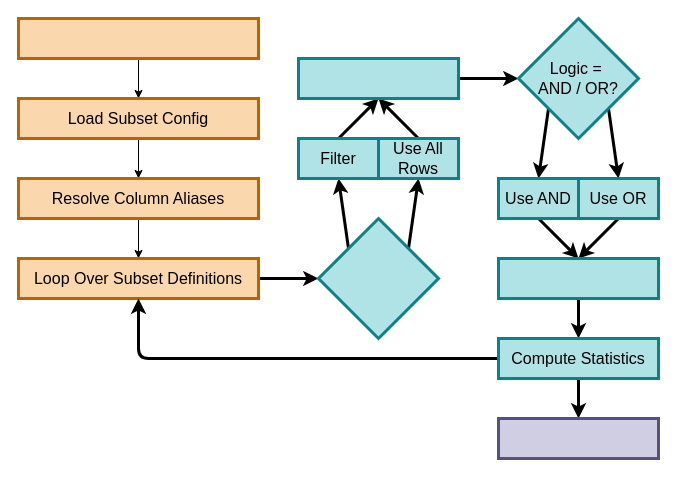
The diagram is 677 pixels wide and 477 high, and some of its shapes have lost their labels. The centre of each missing label's shape, as x and y in pixels:
"Apply Numeric/Logic Rules" belongs at (x=378, y=78).
"Assign Subset Binary Label" belongs at (x=578, y=278).
"Load Domain-Labeled CSV" belongs at (x=138, y=38).
"Parent Exists?" belongs at (x=378, y=278).
"Write CSV" belongs at (x=578, y=438).
